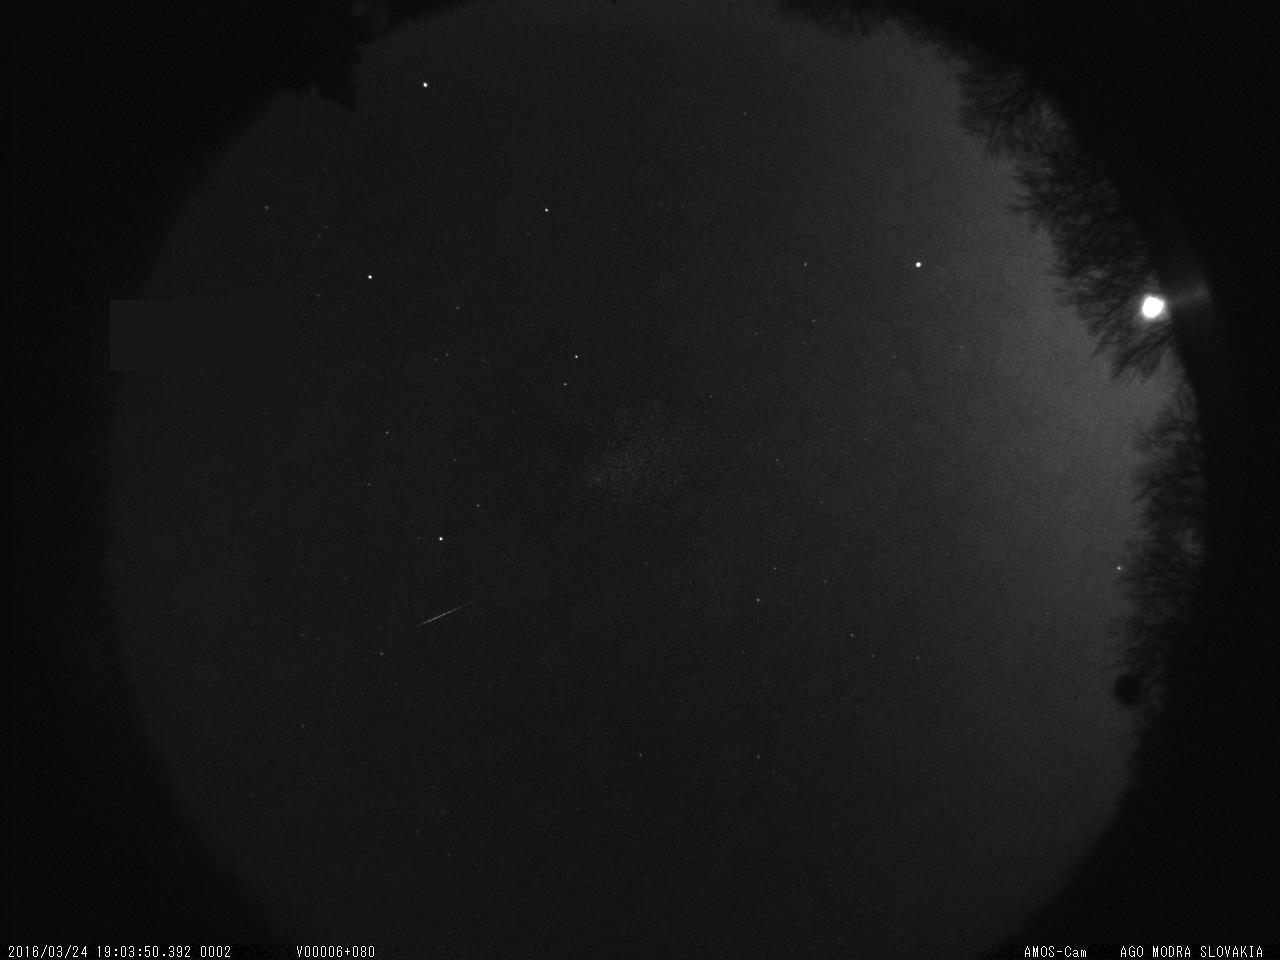meteor: (401, 593, 488, 635)
